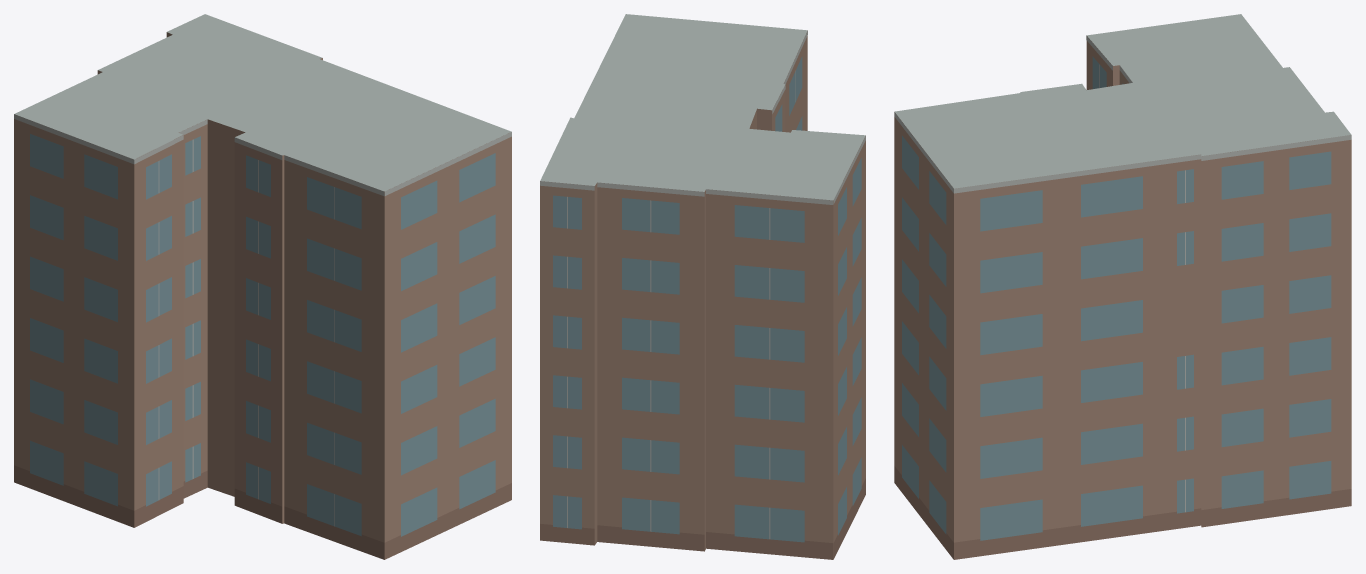
Rendered from survey-upis-32921680.glb.
3 views of the same model, side by side, from view 1: azimuth 30°, elevation 25°; view 2: azimuth 150°, elevation 25°; view 3: azimuth 270°, elevation 25° (orthographic). The views are drawn at different scales.
Parts seen in each view (by area): view 1: survey-upis-32921680.tmp; view 2: survey-upis-32921680.tmp; view 3: survey-upis-32921680.tmp.
Boxes of the visible parts, x1=… form: survey-upis-32921680.tmp: x1=14, y1=14, x2=511, y2=559; survey-upis-32921680.tmp: x1=540, y1=14, x2=865, y2=559; survey-upis-32921680.tmp: x1=894, y1=14, x2=1351, y2=559.
Size of the model in its own units: 18.78 by 18.6 by 20.77.
